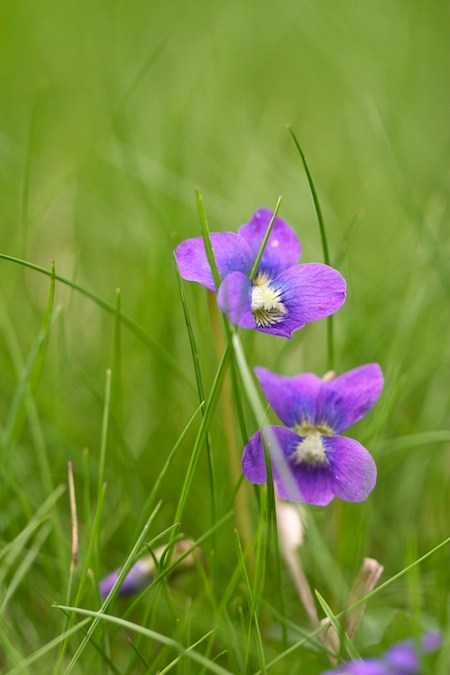violet: (156, 209, 344, 344), (235, 352, 386, 509)
